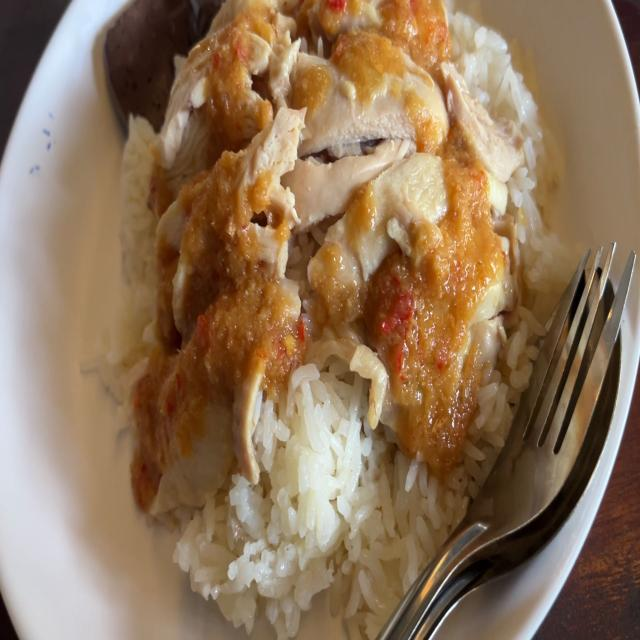chicken_rice: (168, 14, 469, 428)
noodle: (103, 0, 197, 106)
